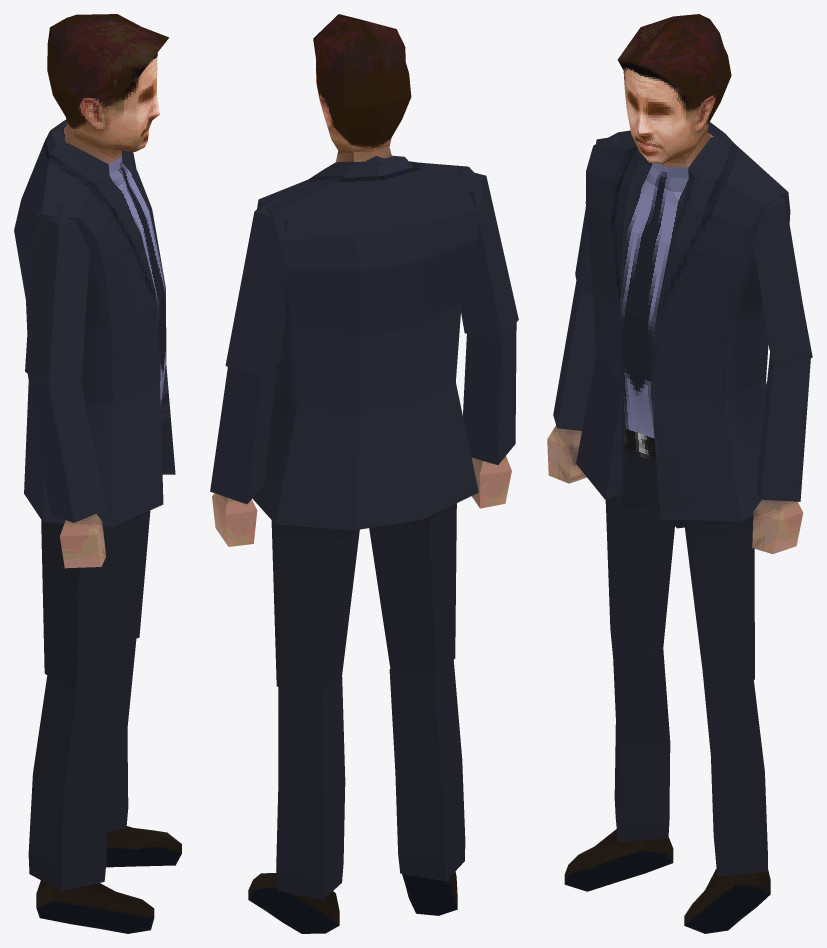
Rendered from suit_man.glb.
3 renders of one model, left to right at view 1: azimuth 30°, elevation 25°; view 2: azimuth 150°, elevation 25°; view 3: azimuth 270°, elevation 25°, orthographic.
Parts seen in each view (by area): view 1: Object_2; view 2: Object_2; view 3: Object_2.
Boxes of the visible parts, x1=… form: Object_2: x1=14, y1=14, x2=181, y2=933; Object_2: x1=210, y1=14, x2=518, y2=933; Object_2: x1=547, y1=14, x2=812, y2=933.
Bounding box in the file's own units: 0.8128 × 3.3 × 0.9149.
1 material, 1 textured.
